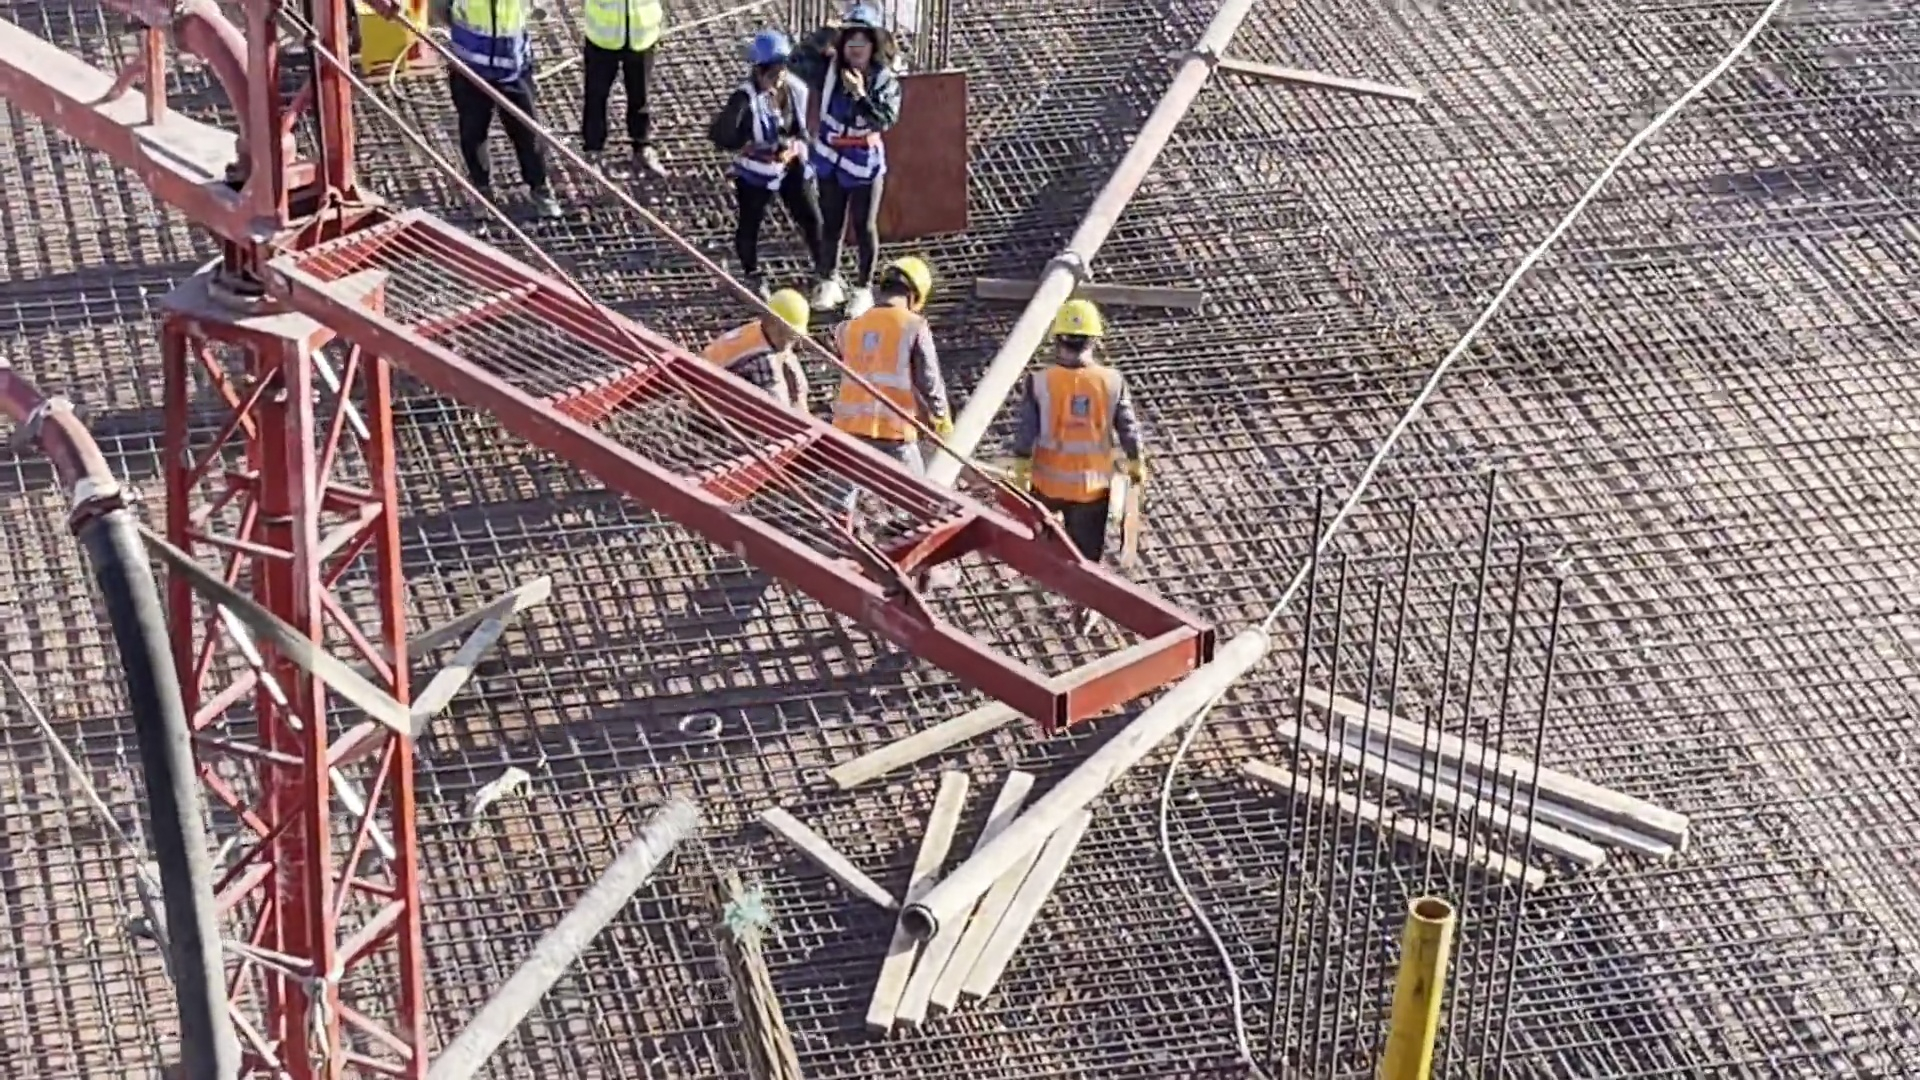helmet: (1059, 303, 1104, 352), (888, 255, 930, 297), (766, 290, 801, 338), (847, 6, 882, 31), (754, 37, 781, 56)
person: (996, 297, 1148, 576), (811, 257, 959, 522), (805, 9, 907, 326), (423, 1, 567, 215), (710, 34, 825, 265), (554, 1, 669, 189), (694, 280, 811, 406)
vest: (1023, 363, 1125, 500), (828, 316, 925, 435), (430, 1, 540, 91), (820, 90, 888, 176), (740, 92, 804, 179), (584, 1, 661, 54), (712, 319, 770, 372)
